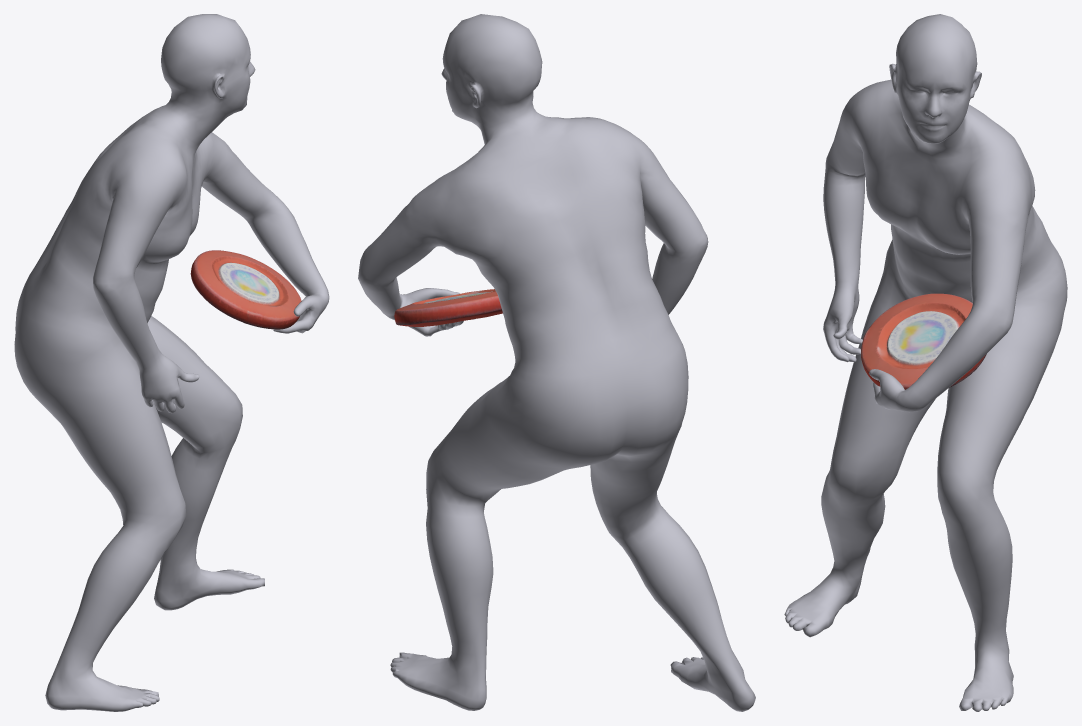
File: frisbee.glb
3 renders of one model, left to right at view 1: azimuth 30°, elevation 25°; view 2: azimuth 150°, elevation 25°; view 3: azimuth 270°, elevation 25°, orthographic. The views are drawn at different scales.
Visible parts, largest first — view 1: human, world; view 2: human, world; view 3: human, world.
Part boxes in pixels (x1=…): human: x1=14, y1=14, x2=329, y2=711; world: x1=190, y1=250, x2=301, y2=329; human: x1=358, y1=14, x2=755, y2=711; world: x1=394, y1=289, x2=502, y2=326; human: x1=784, y1=14, x2=1067, y2=711; world: x1=861, y1=293, x2=986, y2=389.
Size of the model in its own units: 0.7591 by 1.45 by 0.5503.
